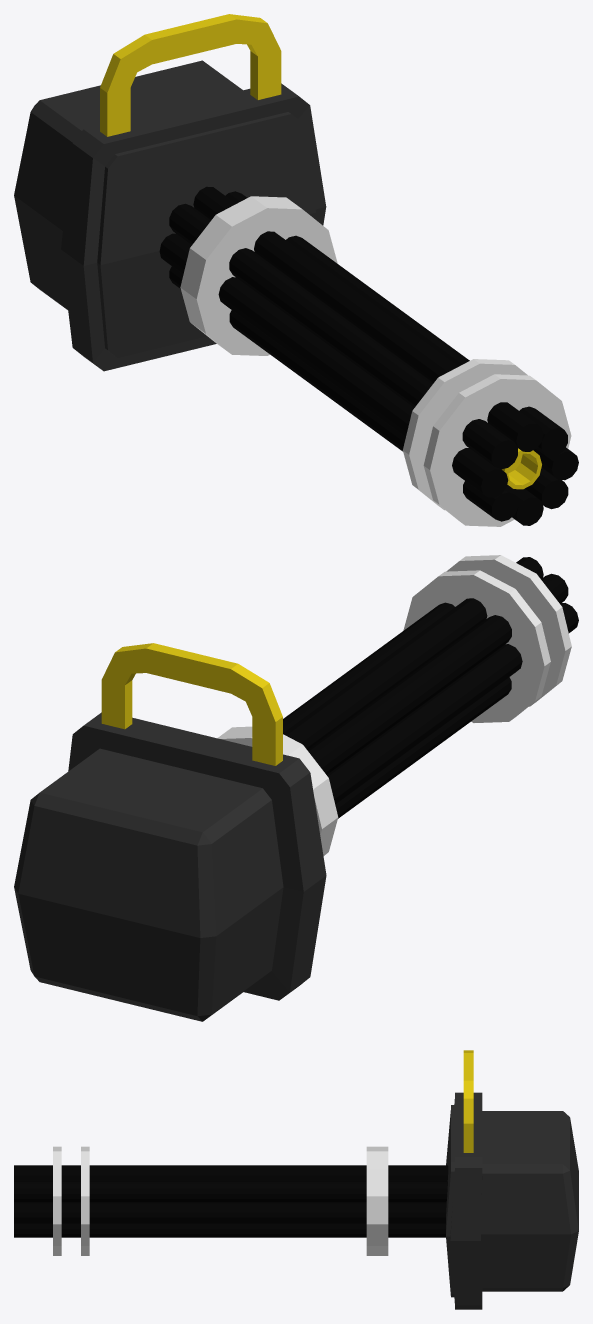
File: minigun.fbx
3 renders of one model, top to bottom at view 1: azimuth 30°, elevation 25°; view 2: azimuth 150°, elevation 25°; view 3: azimuth 270°, elevation 25°, orthographic. The views are drawn at different scales.
Parts seen in each view (by area): view 1: Weapon_Minigun; view 2: Weapon_Minigun; view 3: Weapon_Minigun.
Part boxes in pixels (x1=…): Weapon_Minigun: x1=14, y1=14, x2=578, y2=526; Weapon_Minigun: x1=14, y1=555, x2=578, y2=1021; Weapon_Minigun: x1=14, y1=1050, x2=578, y2=1309.
Size of the model in its own units: 20.61 by 25.43 by 61.87.
